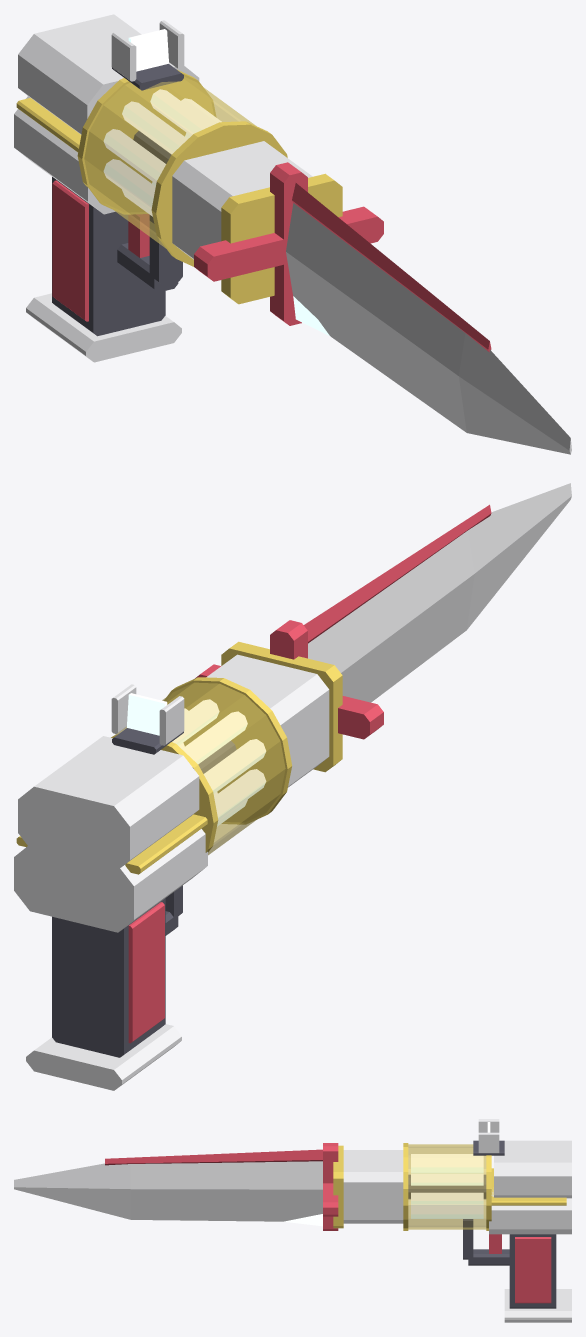
The model's file is blaster_kitsune_blade.glb.
3 views of the same model, one above another, from view 1: azimuth 30°, elevation 25°; view 2: azimuth 150°, elevation 25°; view 3: azimuth 270°, elevation 25° (orthographic). The views are drawn at different scales.
Visible parts, largest first — view 1: blaster_kitsune_blade; view 2: blaster_kitsune_blade; view 3: blaster_kitsune_blade.
Part boxes in pixels (x1,y1,x2,y2): blaster_kitsune_blade: (14, 14, 571, 454); blaster_kitsune_blade: (14, 483, 571, 1090); blaster_kitsune_blade: (14, 1119, 571, 1322).
Size of the model in its own units: 0.44 by 0.7875 by 2.15.
